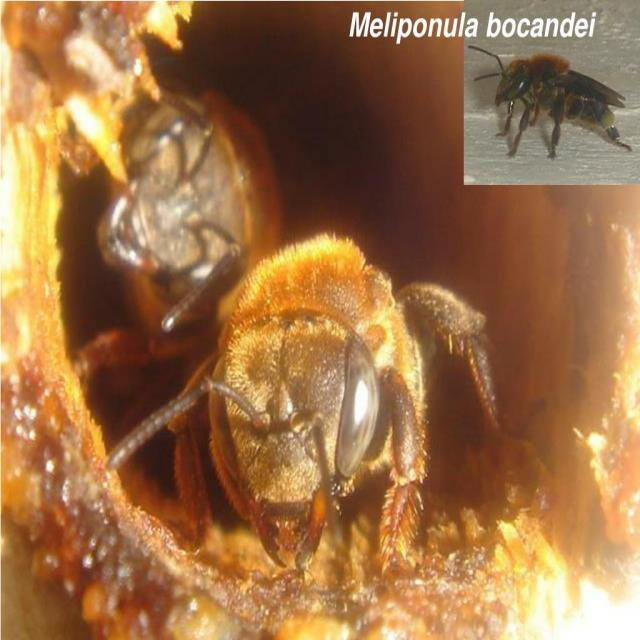Meliponula: (106, 228, 512, 580), (58, 56, 296, 406), (470, 38, 638, 172)
